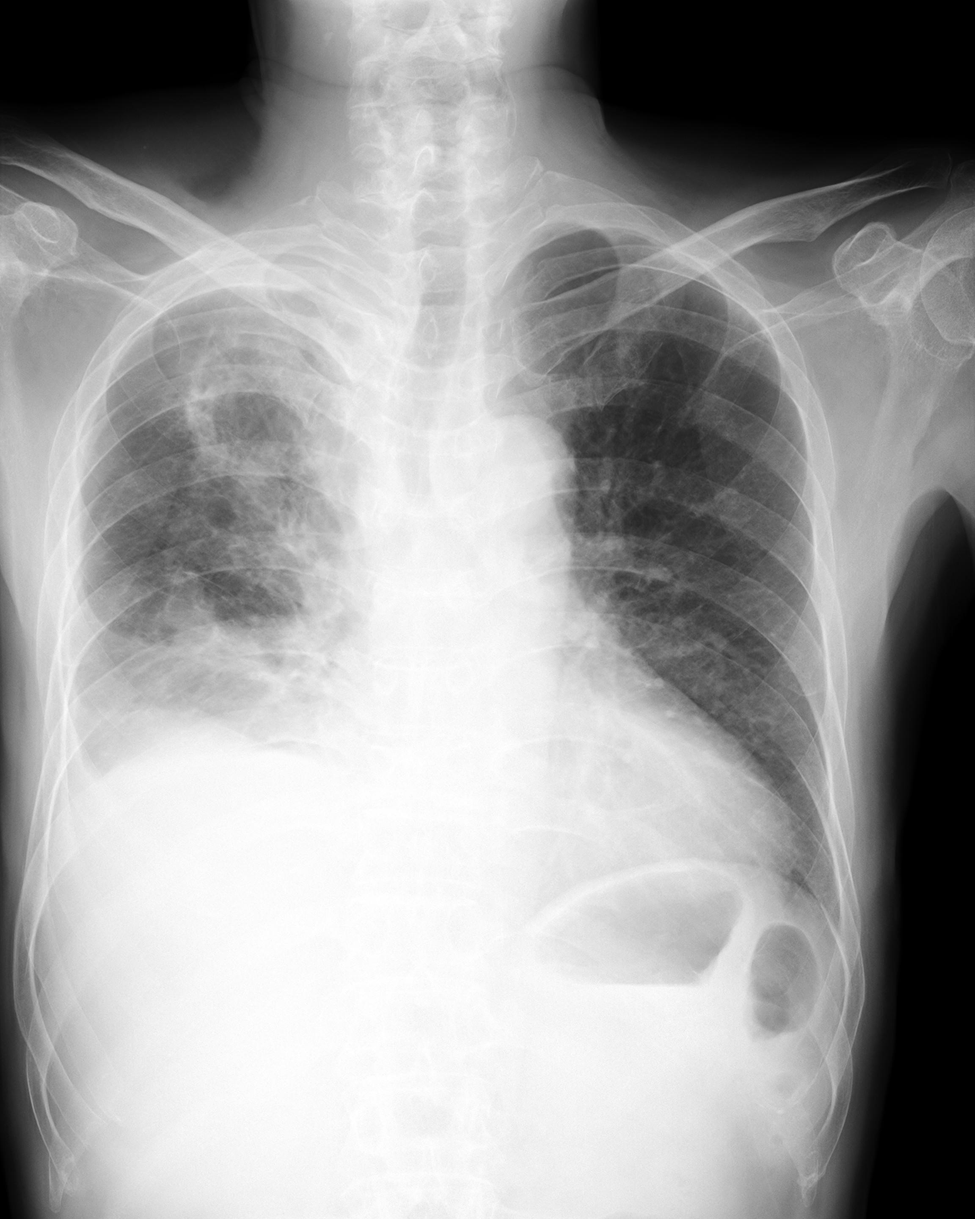Aortic enlargement: (448, 420, 566, 585)
Pulmonary fibrosis: (183, 271, 307, 506)
